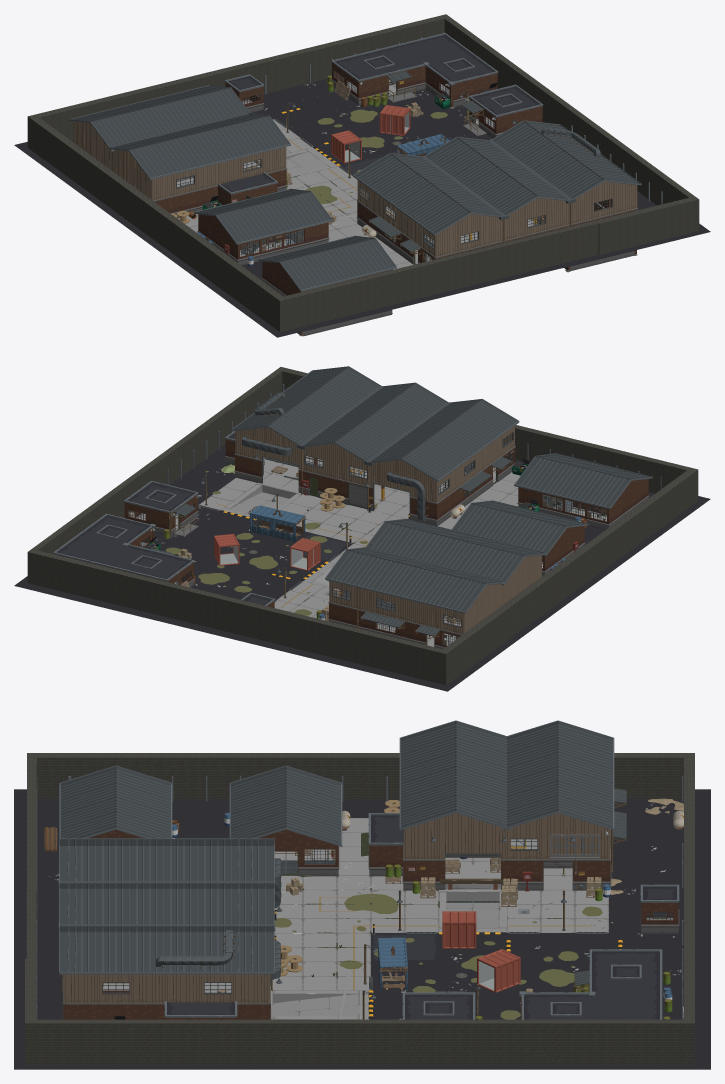
The model's file is warehouse_map.glb.
3 renders of one model, top to bottom at view 1: azimuth 30°, elevation 25°; view 2: azimuth 150°, elevation 25°; view 3: azimuth 270°, elevation 25°, orthographic. The views are drawn at different scales.
Parts seen in each view (by area): view 1: Object_36, Object_16, Object_18, Object_76, Object_80, Object_46, Object_40, Object_26, Object_68, Object_24, Object_64, Object_28 (+21 smaller); view 2: Object_36, Object_18, Object_16, Object_76, Object_40, Object_26, Object_28, Object_64, Object_80, Object_22, Object_46, Object_30 (+21 smaller); view 3: Object_36, Object_64, Object_80, Object_28, Object_18, Object_40, Object_48, Object_46, Object_26, Object_76, Object_44, Object_52 (+21 smaller).
Part boxes in pixels (x1,y1,x2,y2): Object_36: [27, 14, 699, 331]; Object_16: [197, 98, 542, 265]; Object_18: [194, 164, 504, 263]; Object_76: [424, 136, 570, 241]; Object_80: [490, 120, 638, 225]; Object_46: [184, 66, 676, 286]; Object_40: [136, 53, 636, 336]; Object_26: [14, 49, 474, 296]; Object_68: [69, 43, 662, 315]; Object_24: [107, 63, 597, 326]; Object_64: [232, 64, 674, 272]; Object_28: [158, 71, 594, 283]; Object_36: [27, 367, 698, 685]; Object_18: [369, 399, 588, 576]; Object_16: [124, 410, 584, 574]; Object_76: [301, 382, 448, 487]; Object_40: [128, 431, 617, 632]; Object_26: [91, 449, 635, 691]; Object_28: [146, 384, 607, 619]; Object_64: [172, 393, 585, 658]; Object_80: [231, 377, 365, 455]; Object_22: [120, 407, 563, 606]; Object_46: [156, 403, 626, 585]; Object_30: [77, 392, 578, 646]; Object_36: [25, 753, 694, 1064]; Object_64: [14, 788, 710, 1019]; Object_80: [63, 925, 274, 1004]; Object_28: [14, 752, 601, 1019]; Object_18: [59, 765, 342, 881]; Object_40: [36, 737, 683, 1069]; Object_48: [36, 832, 710, 1069]; Object_46: [14, 782, 683, 1047]; Object_26: [43, 776, 710, 1019]; Object_76: [59, 882, 274, 925]; Object_44: [49, 795, 710, 1069]; Object_52: [14, 766, 710, 1019].
Bounding box in the file's own units: 73.92 × 14.39 × 77.71.
Materials: 35 (35 with a texture image).
